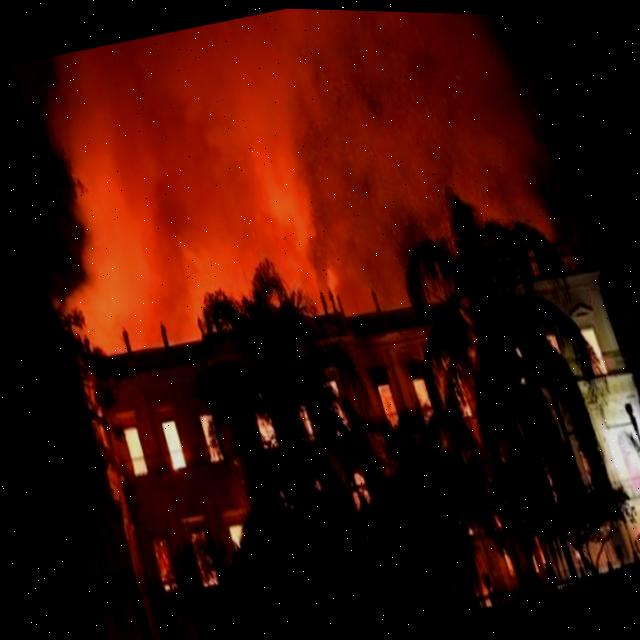smoke: (25, 7, 546, 336)
